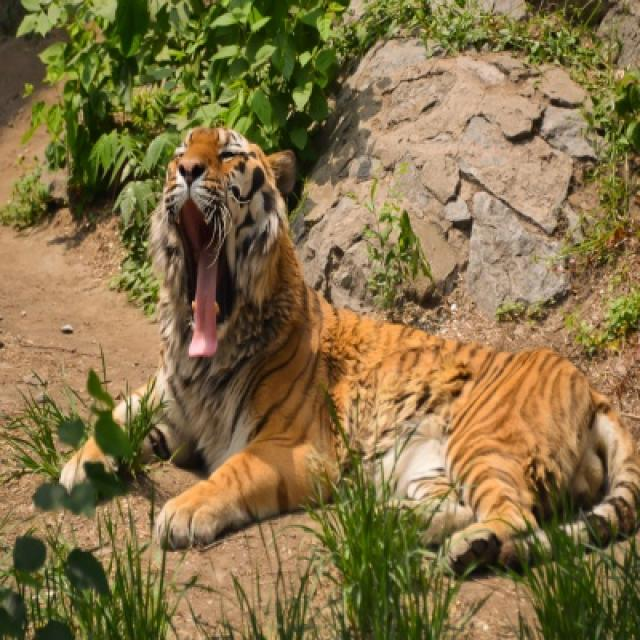Tiger: (141, 128, 638, 570)
